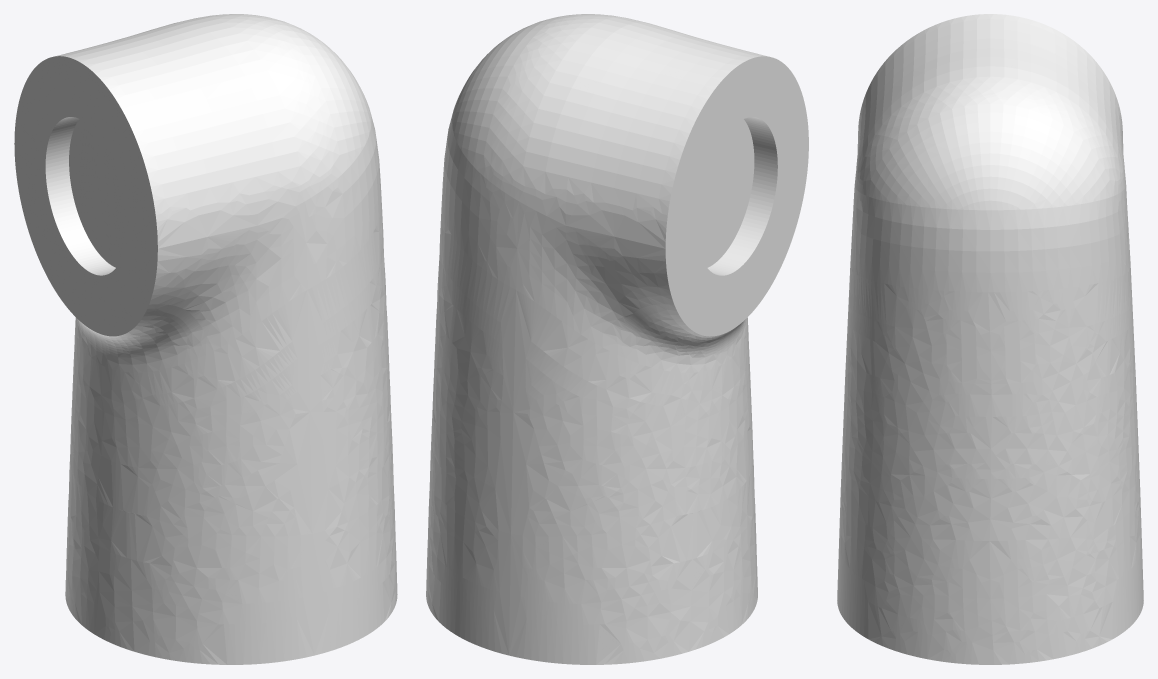
Rendered from j2ndarm.dae.
3 views of the same model, side by side, from view 1: azimuth 30°, elevation 25°; view 2: azimuth 150°, elevation 25°; view 3: azimuth 270°, elevation 25° (orthographic). The views are drawn at different scales.
Parts seen in each view (by area): view 1: tmp_export_j2ndarm; view 2: tmp_export_j2ndarm; view 3: tmp_export_j2ndarm.
Boxes of the visible parts, x1,y1,x2,y2 form: tmp_export_j2ndarm: (14, 14, 397, 664); tmp_export_j2ndarm: (426, 14, 808, 664); tmp_export_j2ndarm: (837, 14, 1143, 664).
Bounding box in the file's own units: 0.0617 × 0.0614 × 0.1218.
Materials: 1 (1 with a texture image).
